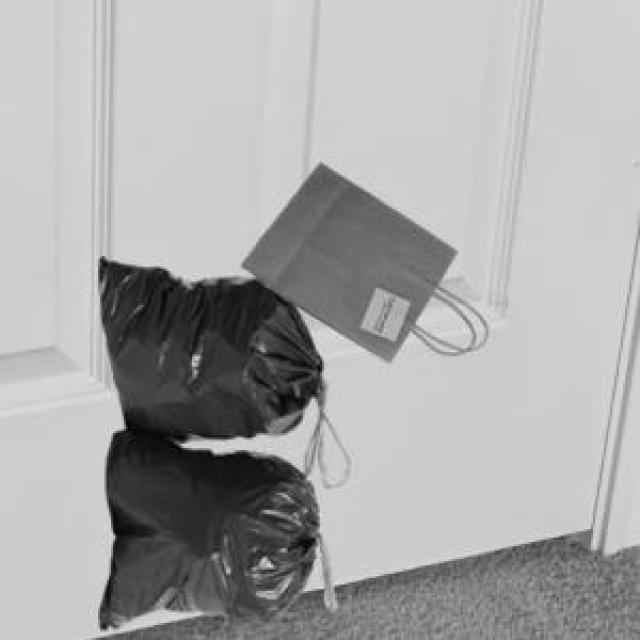miscellaneous trash: (96, 255, 333, 625)
paper: (239, 160, 452, 358)
